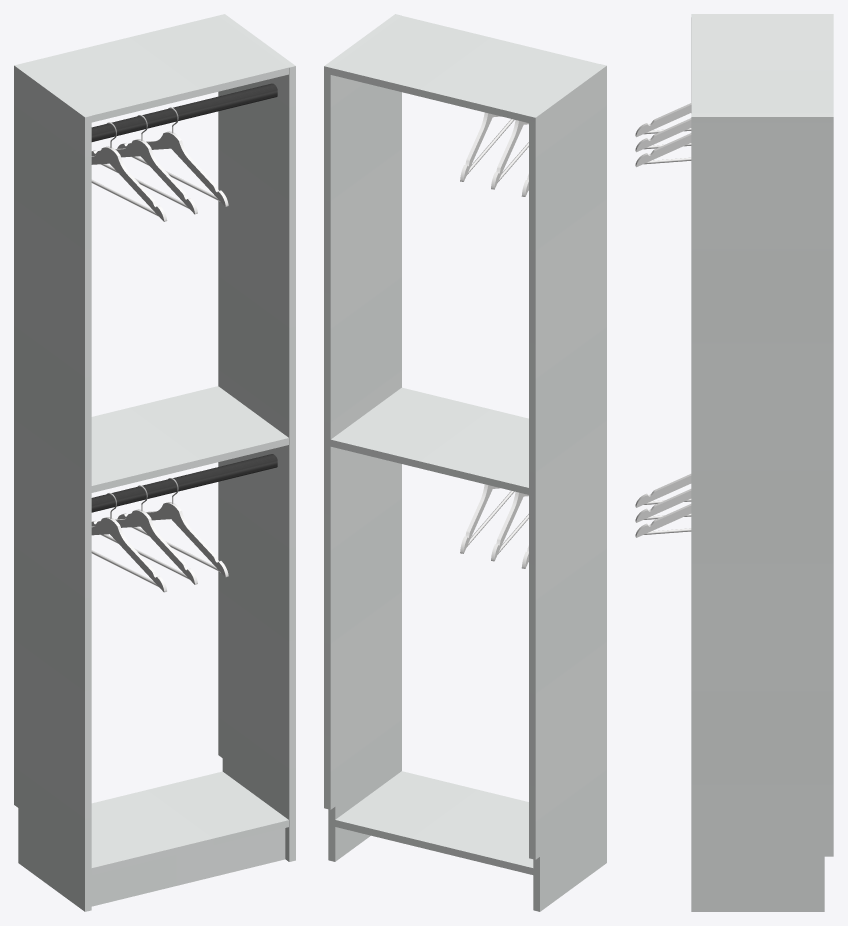
File: scene00 - Room 1 Wall #1.glb
The picture shows the model from 3 angles, left to right: view 1: azimuth 30°, elevation 25°; view 2: azimuth 150°, elevation 25°; view 3: azimuth 270°, elevation 25°; orthographic projection.
Parts seen in each view (by area): view 1: 1, 3, 5; view 2: 1, 3; view 3: 1, 3.
Boxes of the visible parts, x1,y1,x2,y2 form: 1: (14, 14, 295, 911); 3: (91, 131, 228, 592); 5: (91, 83, 277, 512); 1: (324, 14, 606, 911); 3: (460, 112, 528, 568); 1: (691, 14, 833, 911); 3: (635, 103, 691, 537).
Size of the model in its own units: 0.6098 by 2.2 by 0.4962.
4 materials, 3 textured.
